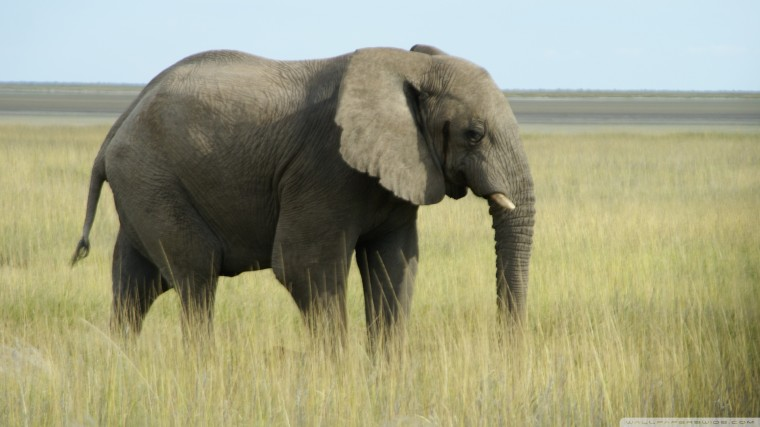africanelephant: (343, 34, 574, 270)
